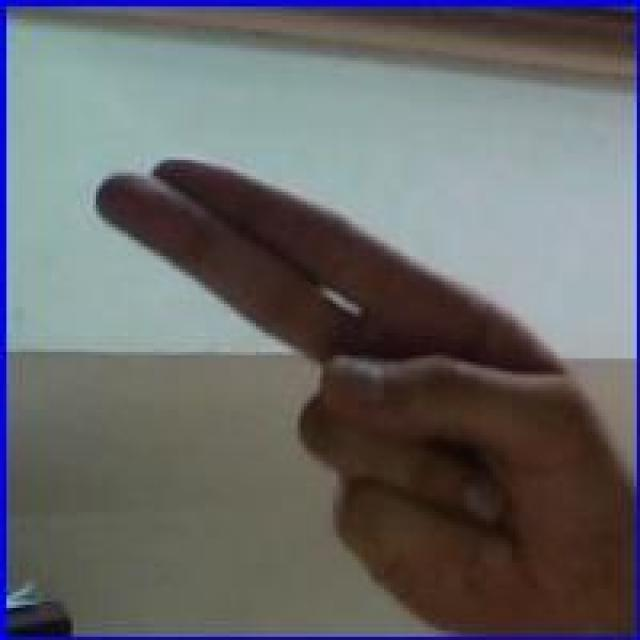H: (83, 147, 618, 624)
